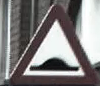Speed Breaker ahead: (8, 4, 91, 80)
